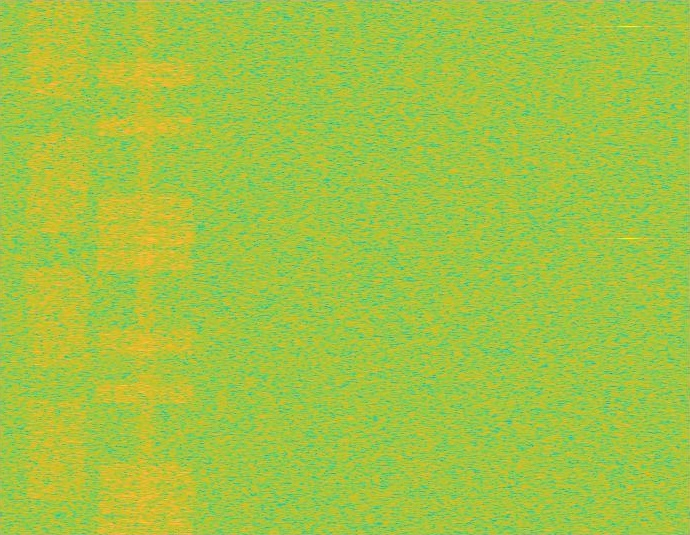5G: (23, 0, 92, 534)
DSSS: (134, 0, 157, 534)
LTE: (94, 0, 197, 534)
Radar: (622, 0, 636, 534)
